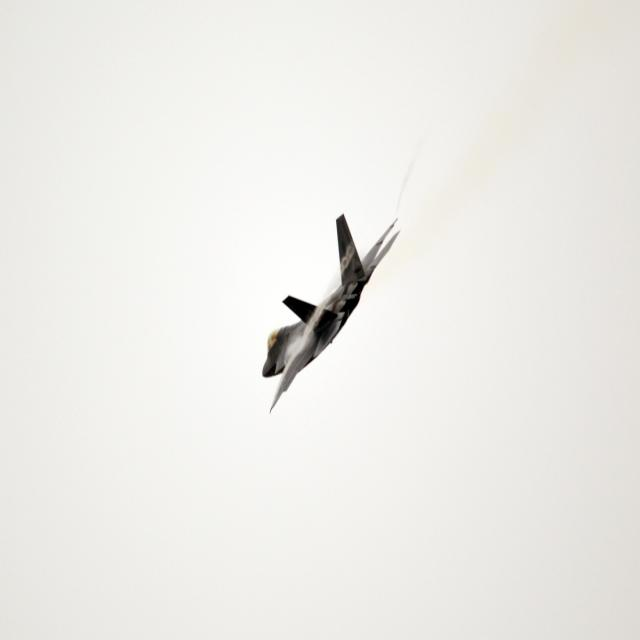MIL_Plane: (262, 213, 401, 414)
